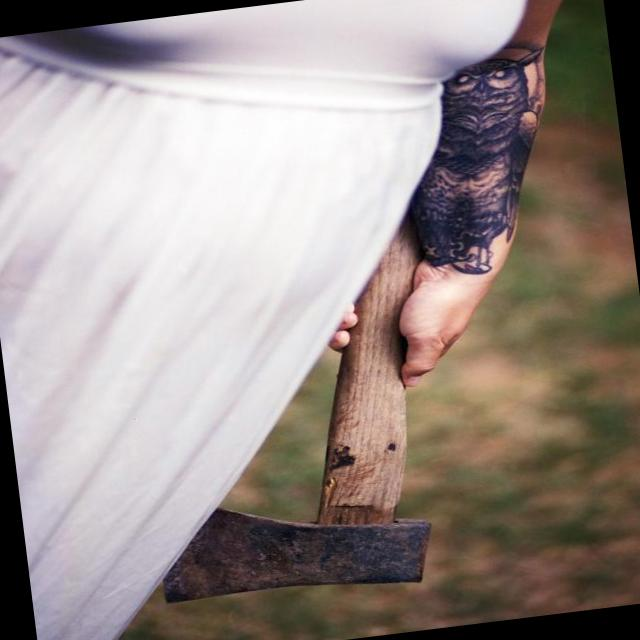Axe: (163, 217, 429, 602)
